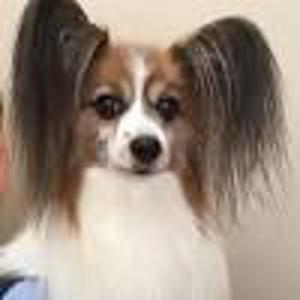yell: (0, 0, 290, 300)
